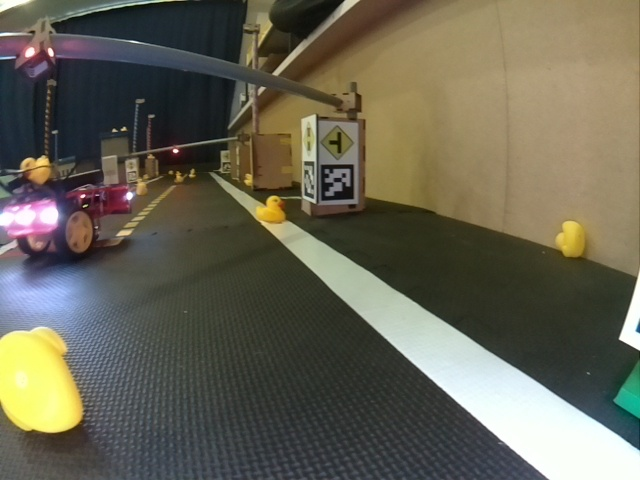Duckie: (1, 326, 84, 435), (554, 220, 585, 258), (20, 156, 51, 183), (257, 195, 285, 223), (135, 183, 145, 195), (191, 170, 197, 179), (177, 177, 184, 183)
Duckiebot: (0, 182, 130, 259)
Intersection sign: (322, 124, 355, 159)
QR code: (319, 163, 355, 201), (302, 160, 316, 200), (222, 162, 230, 172)
Signal sign: (302, 121, 316, 158)
Traffic light: (15, 18, 56, 79)
